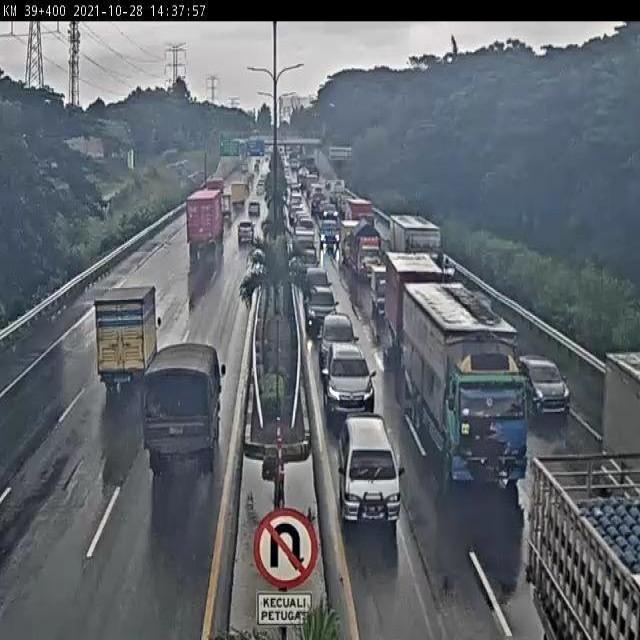big truck: (397, 274, 539, 474), (516, 433, 640, 640), (168, 167, 230, 284)
car: (319, 343, 390, 404), (512, 349, 571, 411), (316, 305, 360, 351), (304, 284, 343, 329), (301, 264, 336, 293), (229, 227, 259, 253), (246, 197, 266, 220)
small bus: (131, 333, 233, 528), (338, 406, 402, 526)
small truck: (75, 281, 166, 436)
